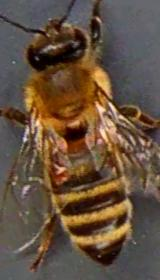varroa_mite: (42, 150, 72, 189)
